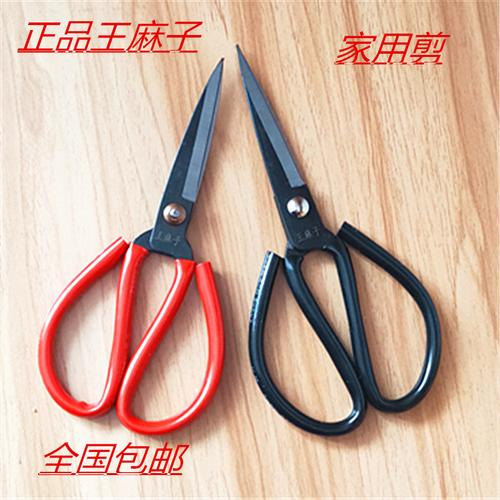scissor: (234, 42, 440, 439), (39, 58, 227, 439)
